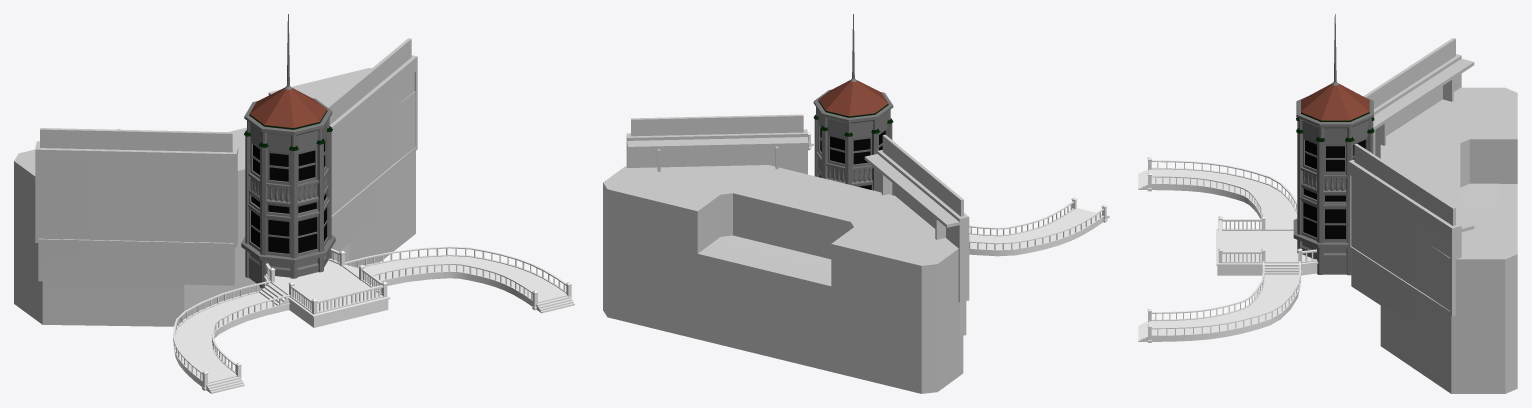
The model's file is finishibuiling.fbx.
The picture shows the model from 3 angles, left to right: view 1: azimuth 30°, elevation 25°; view 2: azimuth 150°, elevation 25°; view 3: azimuth 270°, elevation 25°; orthographic projection. The views are drawn at different scales.
Visible parts, largest first — view 1: Box002, Finish_building; view 2: Box002, Finish_building; view 3: Box002, Finish_building.
Boxes of the visible parts, x1,y1,x2,y2 form: Box002: [14, 38, 417, 326]; Finish_building: [173, 14, 574, 393]; Box002: [603, 114, 969, 393]; Finish_building: [808, 14, 1109, 256]; Box002: [1348, 38, 1517, 393]; Finish_building: [1138, 14, 1374, 342].
Bounding box in the file's own units: 2388 × 1856 × 2179.
